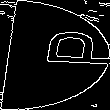P_W: (5, 34, 105, 76)
